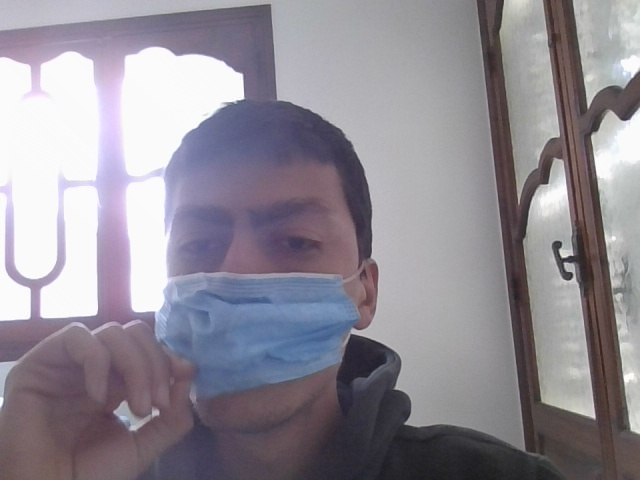mask_weared_incorrect: (154, 114, 363, 414)
